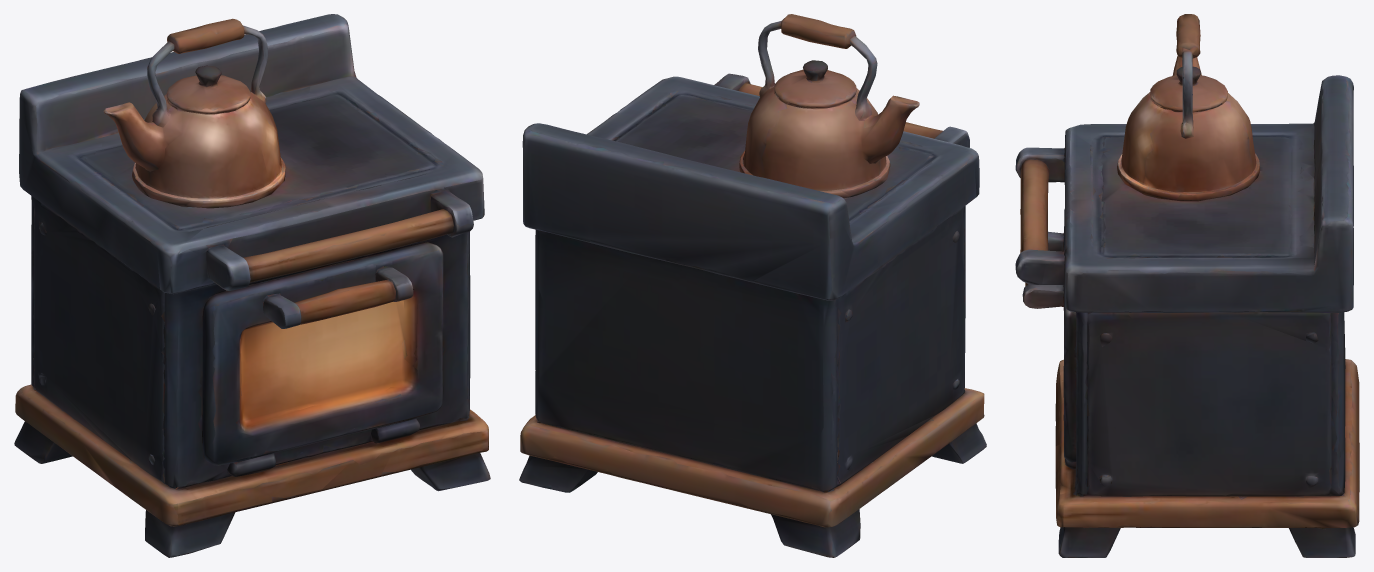
File: stove.glb
3 views of the same model, side by side, from view 1: azimuth 30°, elevation 25°; view 2: azimuth 150°, elevation 25°; view 3: azimuth 270°, elevation 25° (orthographic). The views are drawn at different scales.
Parts seen in each view (by area): view 1: Mesh; view 2: Mesh; view 3: Mesh.
Part boxes in pixels (left/top/right/bottom): Mesh: left=14, top=14, right=490, bottom=557; Mesh: left=519, top=14, right=986, bottom=557; Mesh: left=1015, top=14, right=1359, bottom=557.
Size of the model in its own units: 1.4 by 1.9 by 1.37.
1 material, 1 textured.
